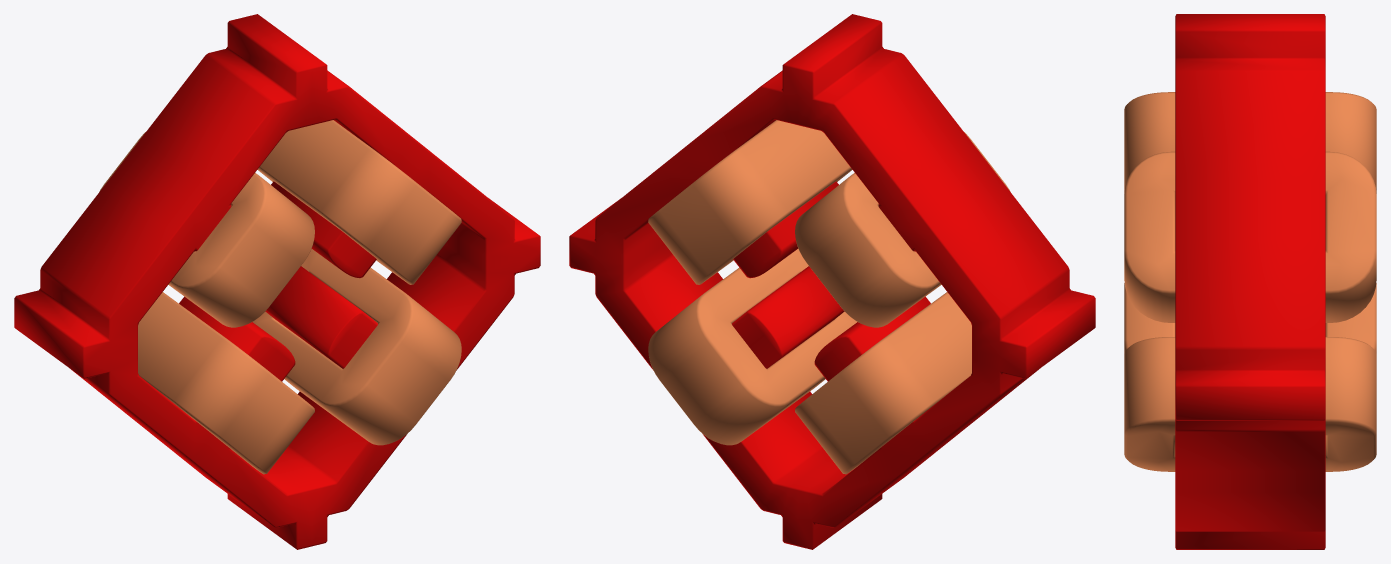
Rendered from Quadrupole.glb.
3 renders of one model, left to right at view 1: azimuth 30°, elevation 25°; view 2: azimuth 150°, elevation 25°; view 3: azimuth 270°, elevation 25°, orthographic. The views are drawn at different scales.
Visible parts, largest first — view 1: Quadrupole one mesh connected; view 2: Quadrupole one mesh connected; view 3: Quadrupole one mesh connected.
Boxes of the visible parts, x1=… form: Quadrupole one mesh connected: x1=14, y1=14, x2=540, y2=549; Quadrupole one mesh connected: x1=569, y1=14, x2=1095, y2=549; Quadrupole one mesh connected: x1=1124, y1=14, x2=1376, y2=549.
Bounding box in the file's own units: 2.08 × 2.08 × 0.9108.
